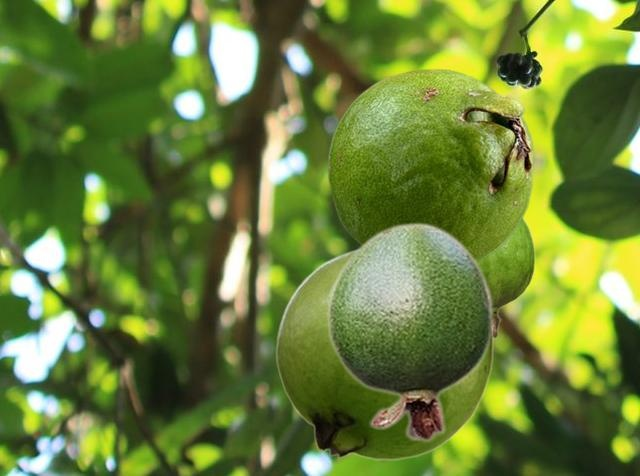guava: (275, 247, 493, 459), (327, 68, 533, 262), (326, 221, 494, 442), (480, 217, 534, 338)
